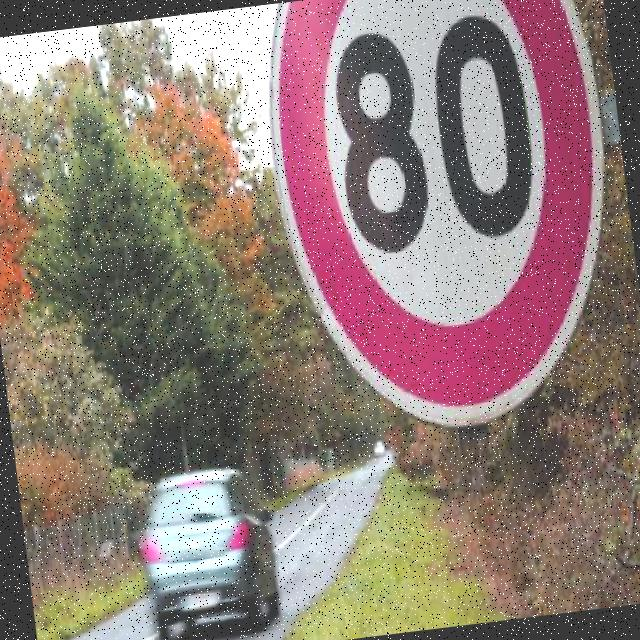Ograniczenie predkosci do 80: (272, 0, 591, 370)
